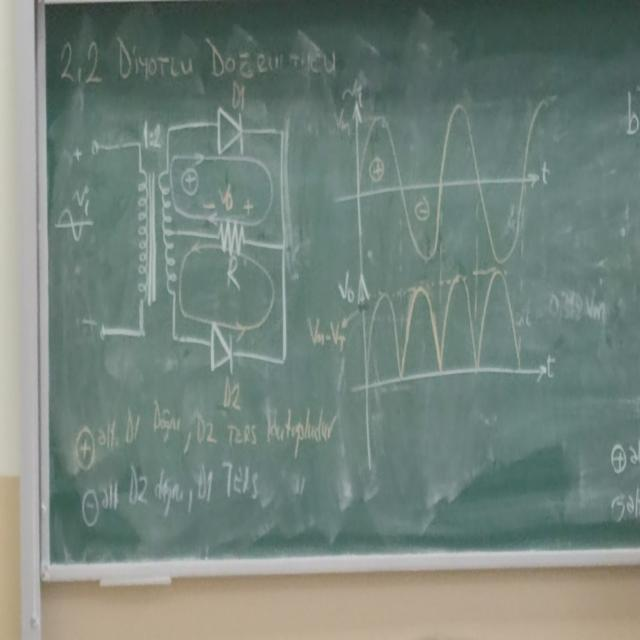image: (332, 73, 565, 281), (159, 82, 305, 394), (334, 282, 561, 460), (50, 102, 164, 356)
math: (95, 465, 265, 519)
text: (84, 398, 340, 455), (112, 30, 282, 82)
